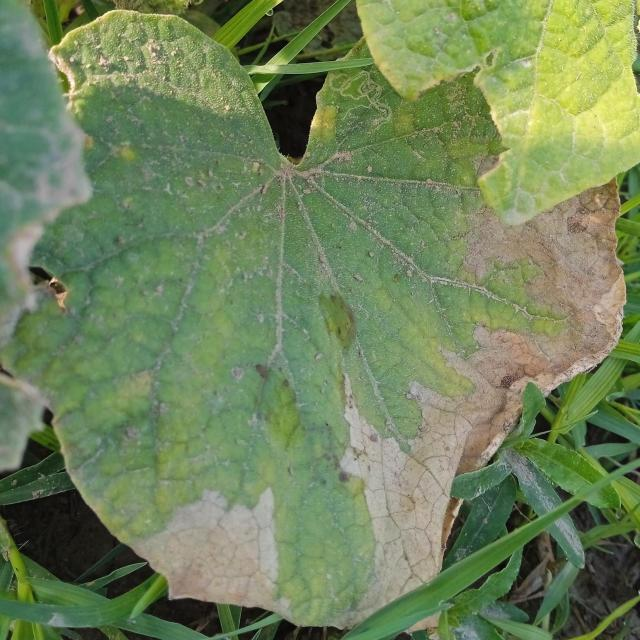cucumber_gummy: (18, 0, 632, 640)
